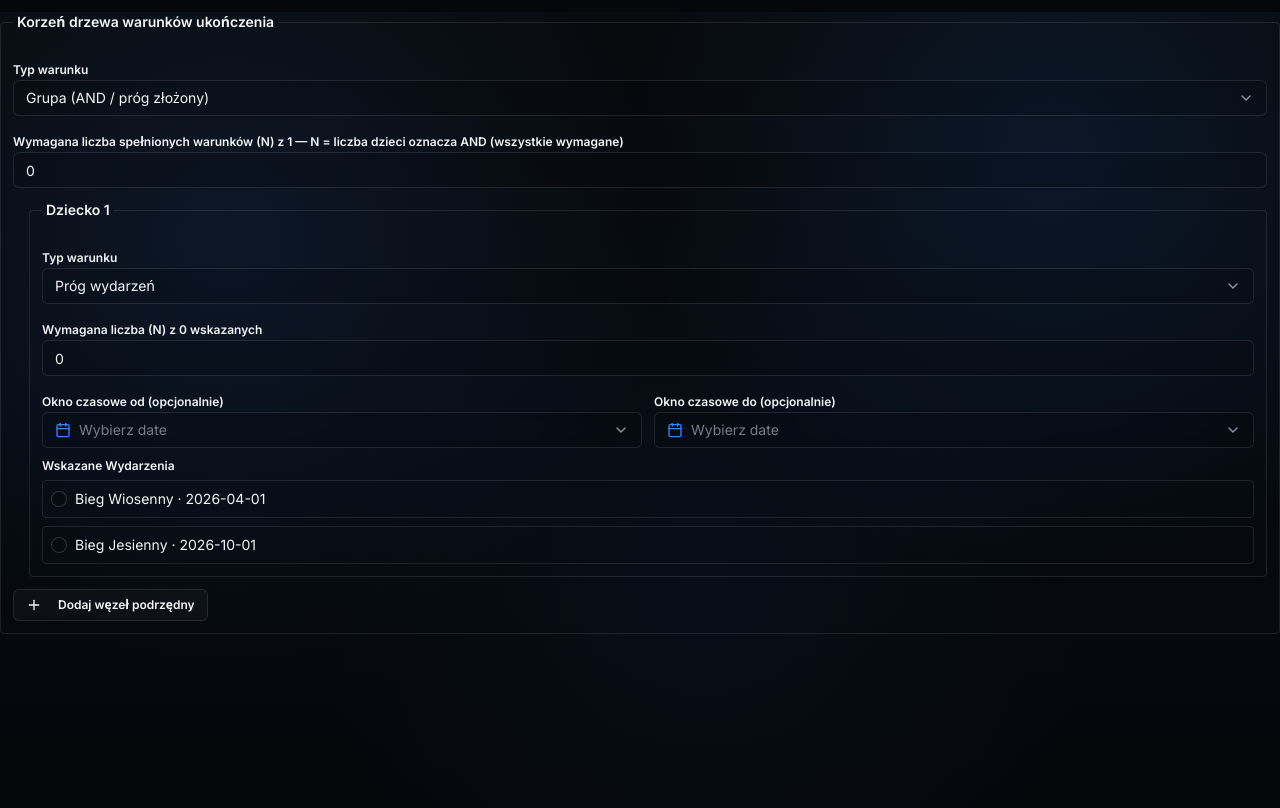
Test: ChallengeConditionTreeEditor › removing a group child is only offered once there is more than one, and it removes the right one
Step 1. Click the button "Dodaj węzeł podrzędny" → (110, 605), box [13, 589, 208, 621]
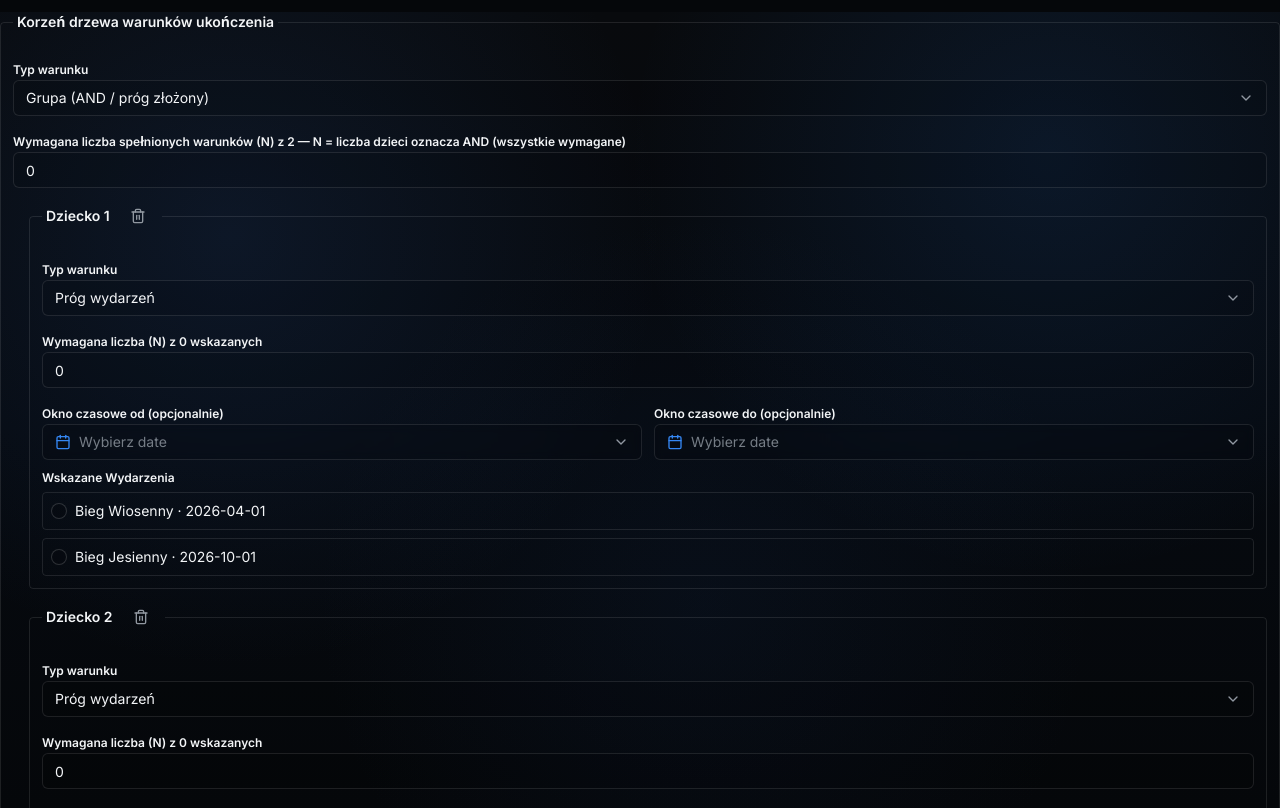
Expected: the text "Dziecko 1" is shown 2 times, [42, 200, 162, 232]; [42, 601, 165, 633]
Step 2. Click the button named "Usuń węzeł: Dziecko 2" → (141, 617), box [121, 601, 161, 633]
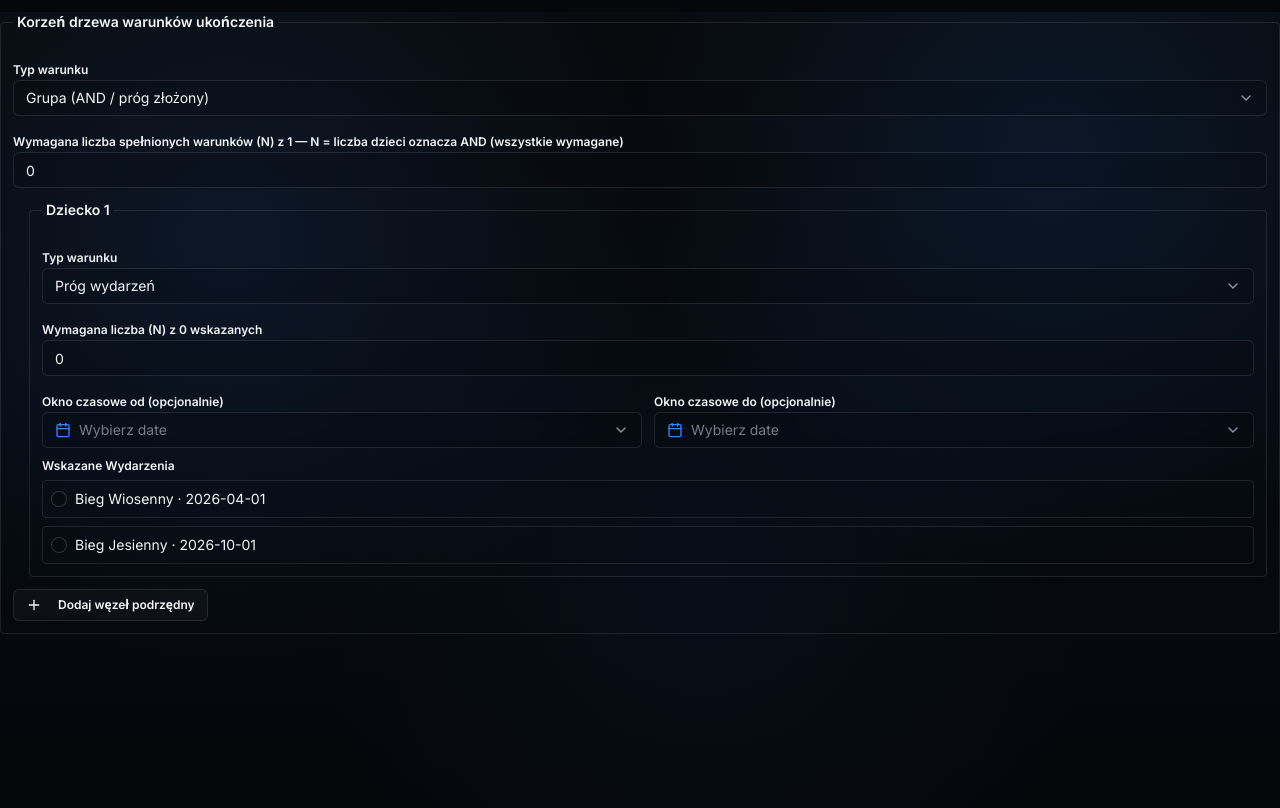
Expected: the text "Dziecko 1" is shown once, [42, 200, 114, 220]
